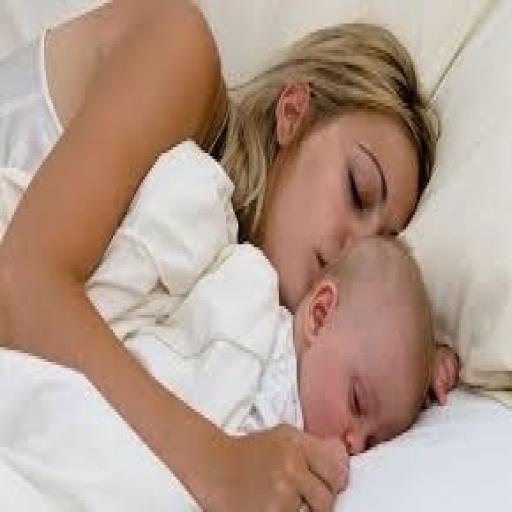sleeping: (0, 0, 461, 509)
